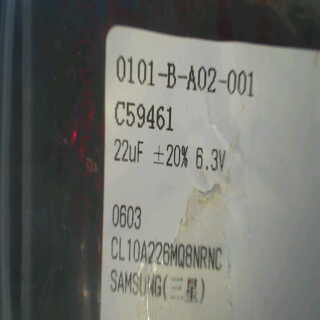22uF: (111, 136, 145, 169)
